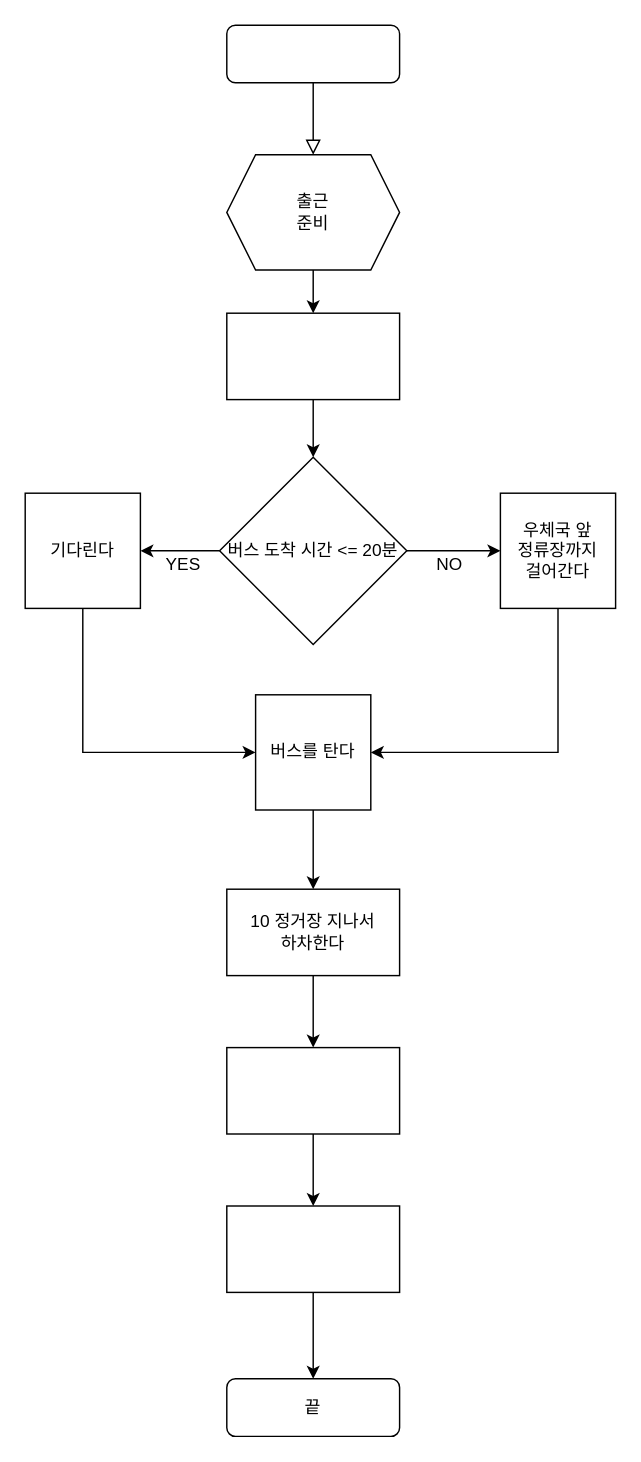
Some shapes in this 641 by 1462 pixel diagram are drawn without their labels. Each missing label, with the centre of its shape:
"시작" belongs at [312,53].
"집 앞 버스 정류장을 간다" belongs at [312,356].
"출근을 찍는다" belongs at [312,1248].
"회사까지 걸어간다" belongs at [312,1090].
